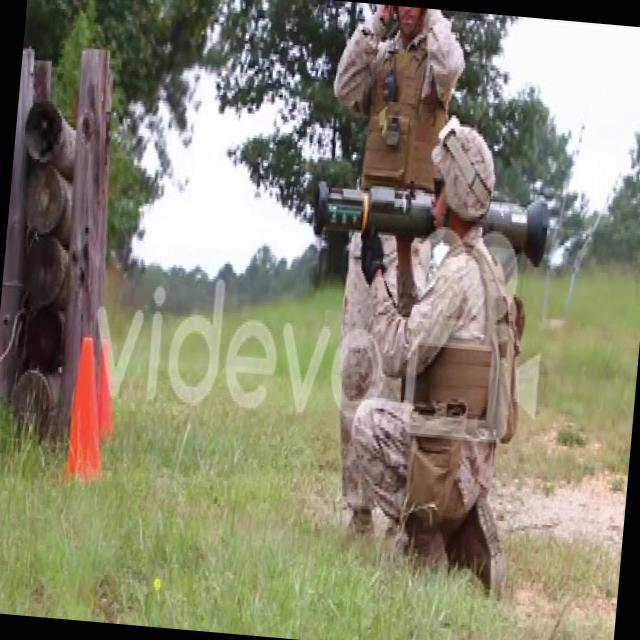rocket: (309, 174, 550, 264)
